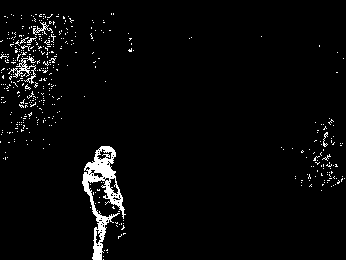person: (83, 144, 128, 260)
